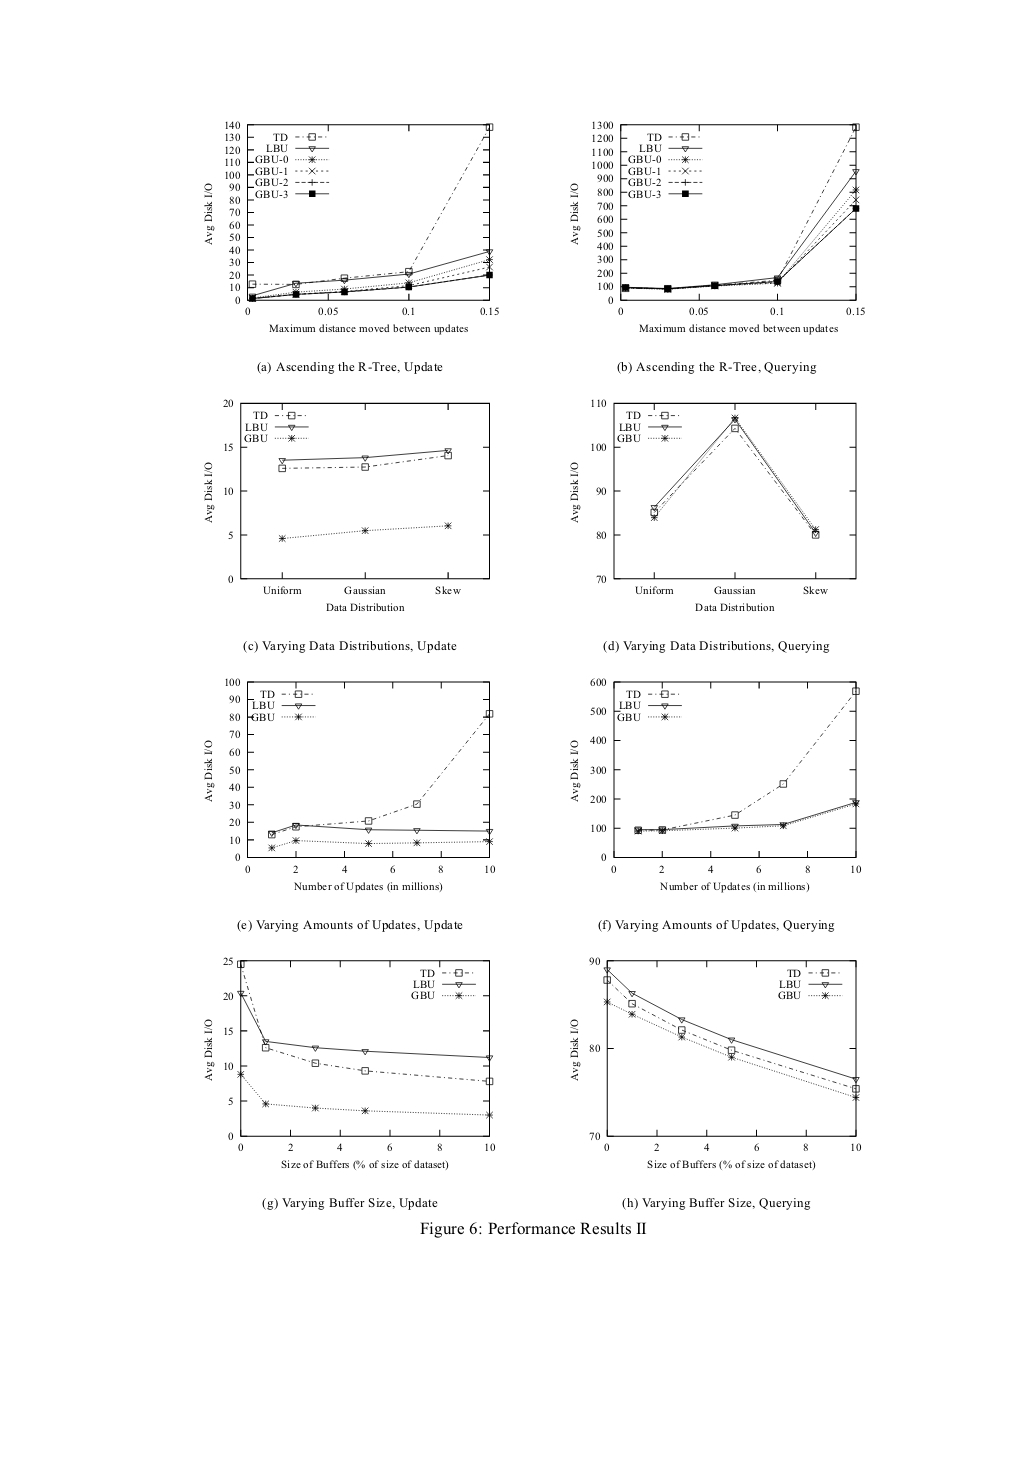figure: (204, 120, 498, 334), (570, 120, 864, 334), (204, 678, 494, 892), (570, 678, 860, 892), (204, 957, 494, 1170), (570, 957, 860, 1170), (570, 399, 856, 611), (204, 399, 489, 611)
